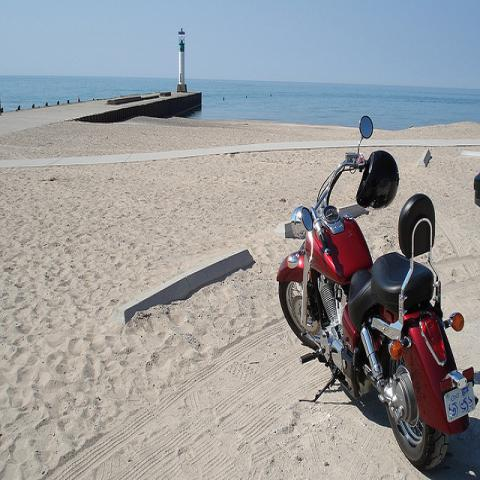motorcycle: (277, 112, 479, 471)
